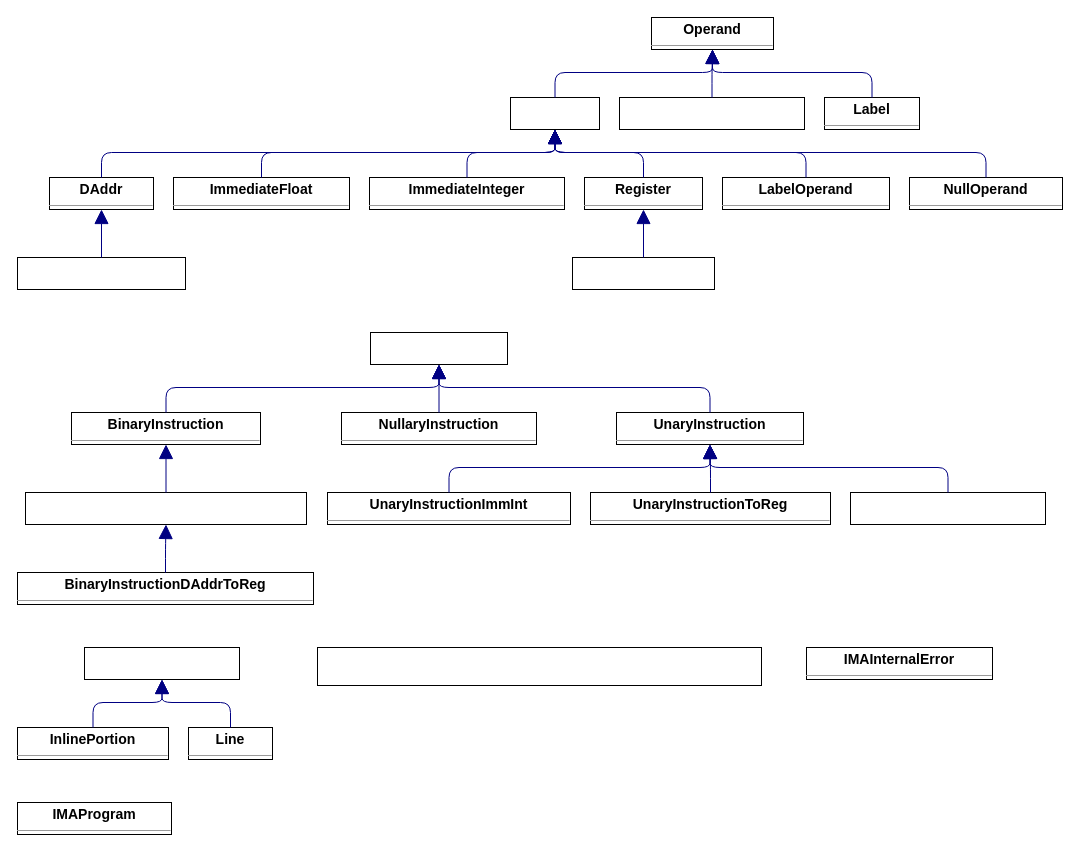
The diagram is 1080 pixels wide and 852 high, and some of its shapes have lost their labels. The shapes that lost their labels are listed below. From the top down, each one's centre as x and y in pixels, then its label:
pixel 555 113: DVal
pixel 711 113: ImmediateString
pixel 101 273: RegisterOffset
pixel 643 273: GPRegister
pixel 439 348: Instruction
pixel 165 508: BinaryInstructionDValToReg
pixel 948 508: BranchInstruction
pixel 162 663: AbstractLine
pixel 539 666: <<package>> package fr.ensimag.ima.pseudocode.instructions
